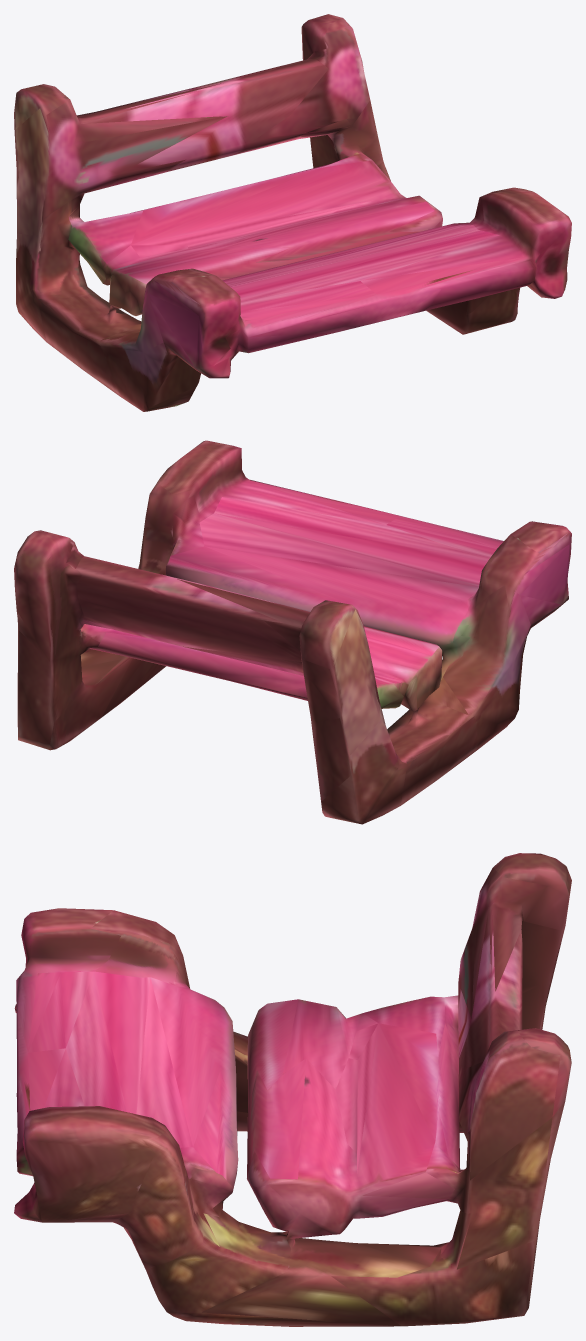
The model's file is CF_Bench.fbx.
The picture shows the model from 3 angles, top to bottom: view 1: azimuth 30°, elevation 25°; view 2: azimuth 150°, elevation 25°; view 3: azimuth 270°, elevation 25°; orthographic projection. The views are drawn at different scales.
Parts seen in each view (by area): view 1: CF_Bench; view 2: CF_Bench; view 3: CF_Bench.
Boxes of the visible parts, x1,y1,x2,y2 form: CF_Bench: (14, 14, 571, 411); CF_Bench: (14, 440, 571, 824); CF_Bench: (14, 853, 571, 1326).
Size of the model in its own units: 2.87 by 1.63 by 3.
